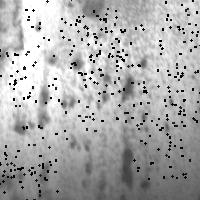pitted_surface: (10, 7, 196, 134), (36, 91, 189, 196), (38, 78, 98, 138), (83, 24, 142, 84), (125, 65, 184, 125), (68, 8, 123, 67), (25, 0, 83, 55), (133, 124, 189, 178), (0, 126, 48, 186), (78, 69, 131, 120), (0, 154, 56, 200), (158, 63, 200, 122), (159, 0, 200, 53), (0, 46, 35, 105), (1, 1, 28, 61), (78, 1, 108, 20)
